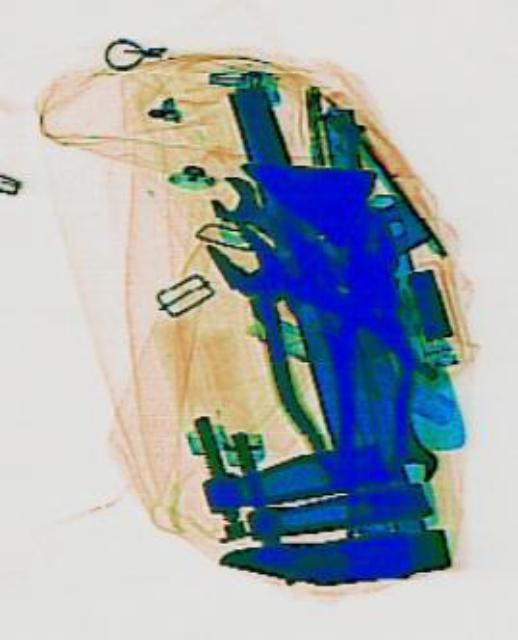Pliers: (171, 178, 422, 466)
Wrench: (201, 164, 323, 274)
